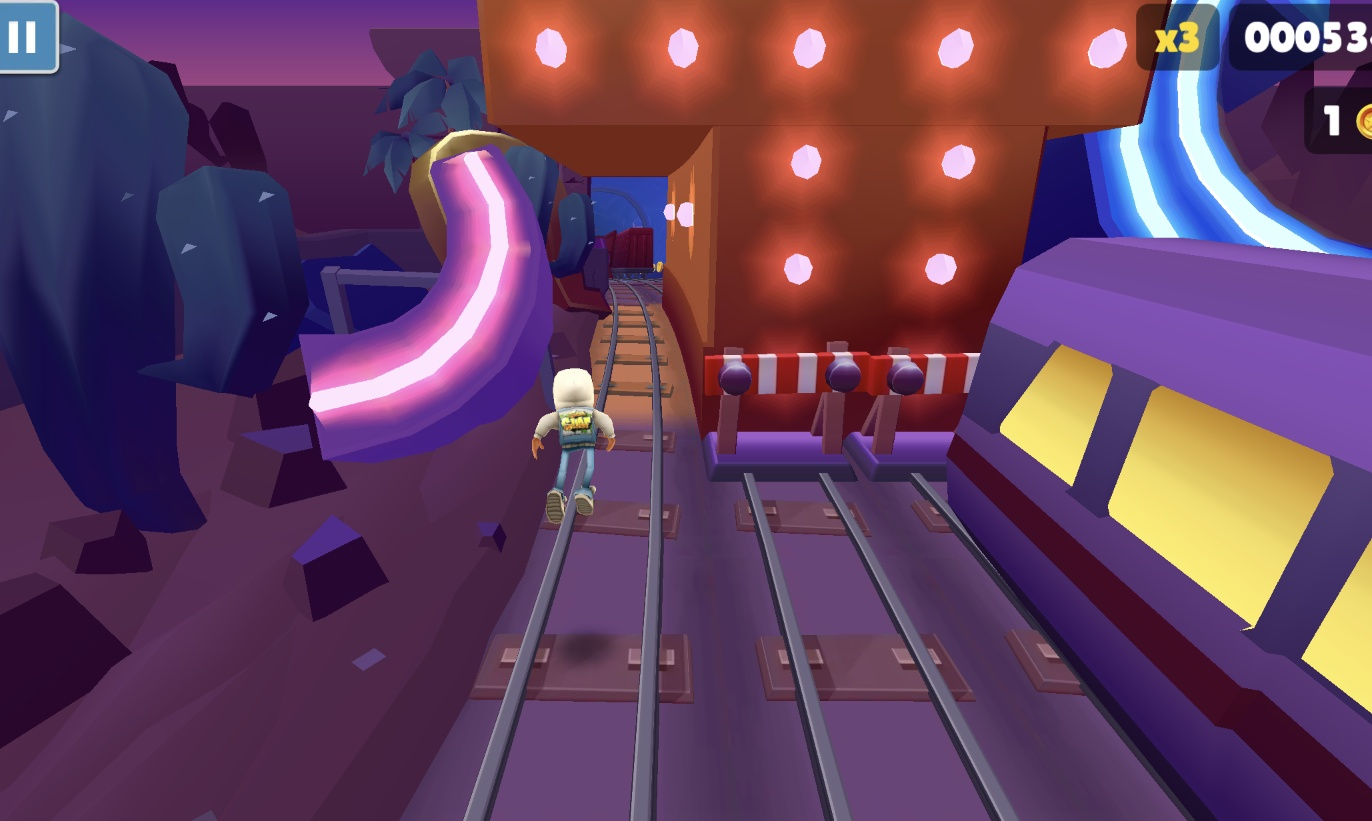ground_barrier: (693, 345, 877, 480), (840, 347, 981, 481)
pillar: (662, 121, 1051, 440)
train: (948, 234, 1371, 821), (607, 228, 660, 278)
